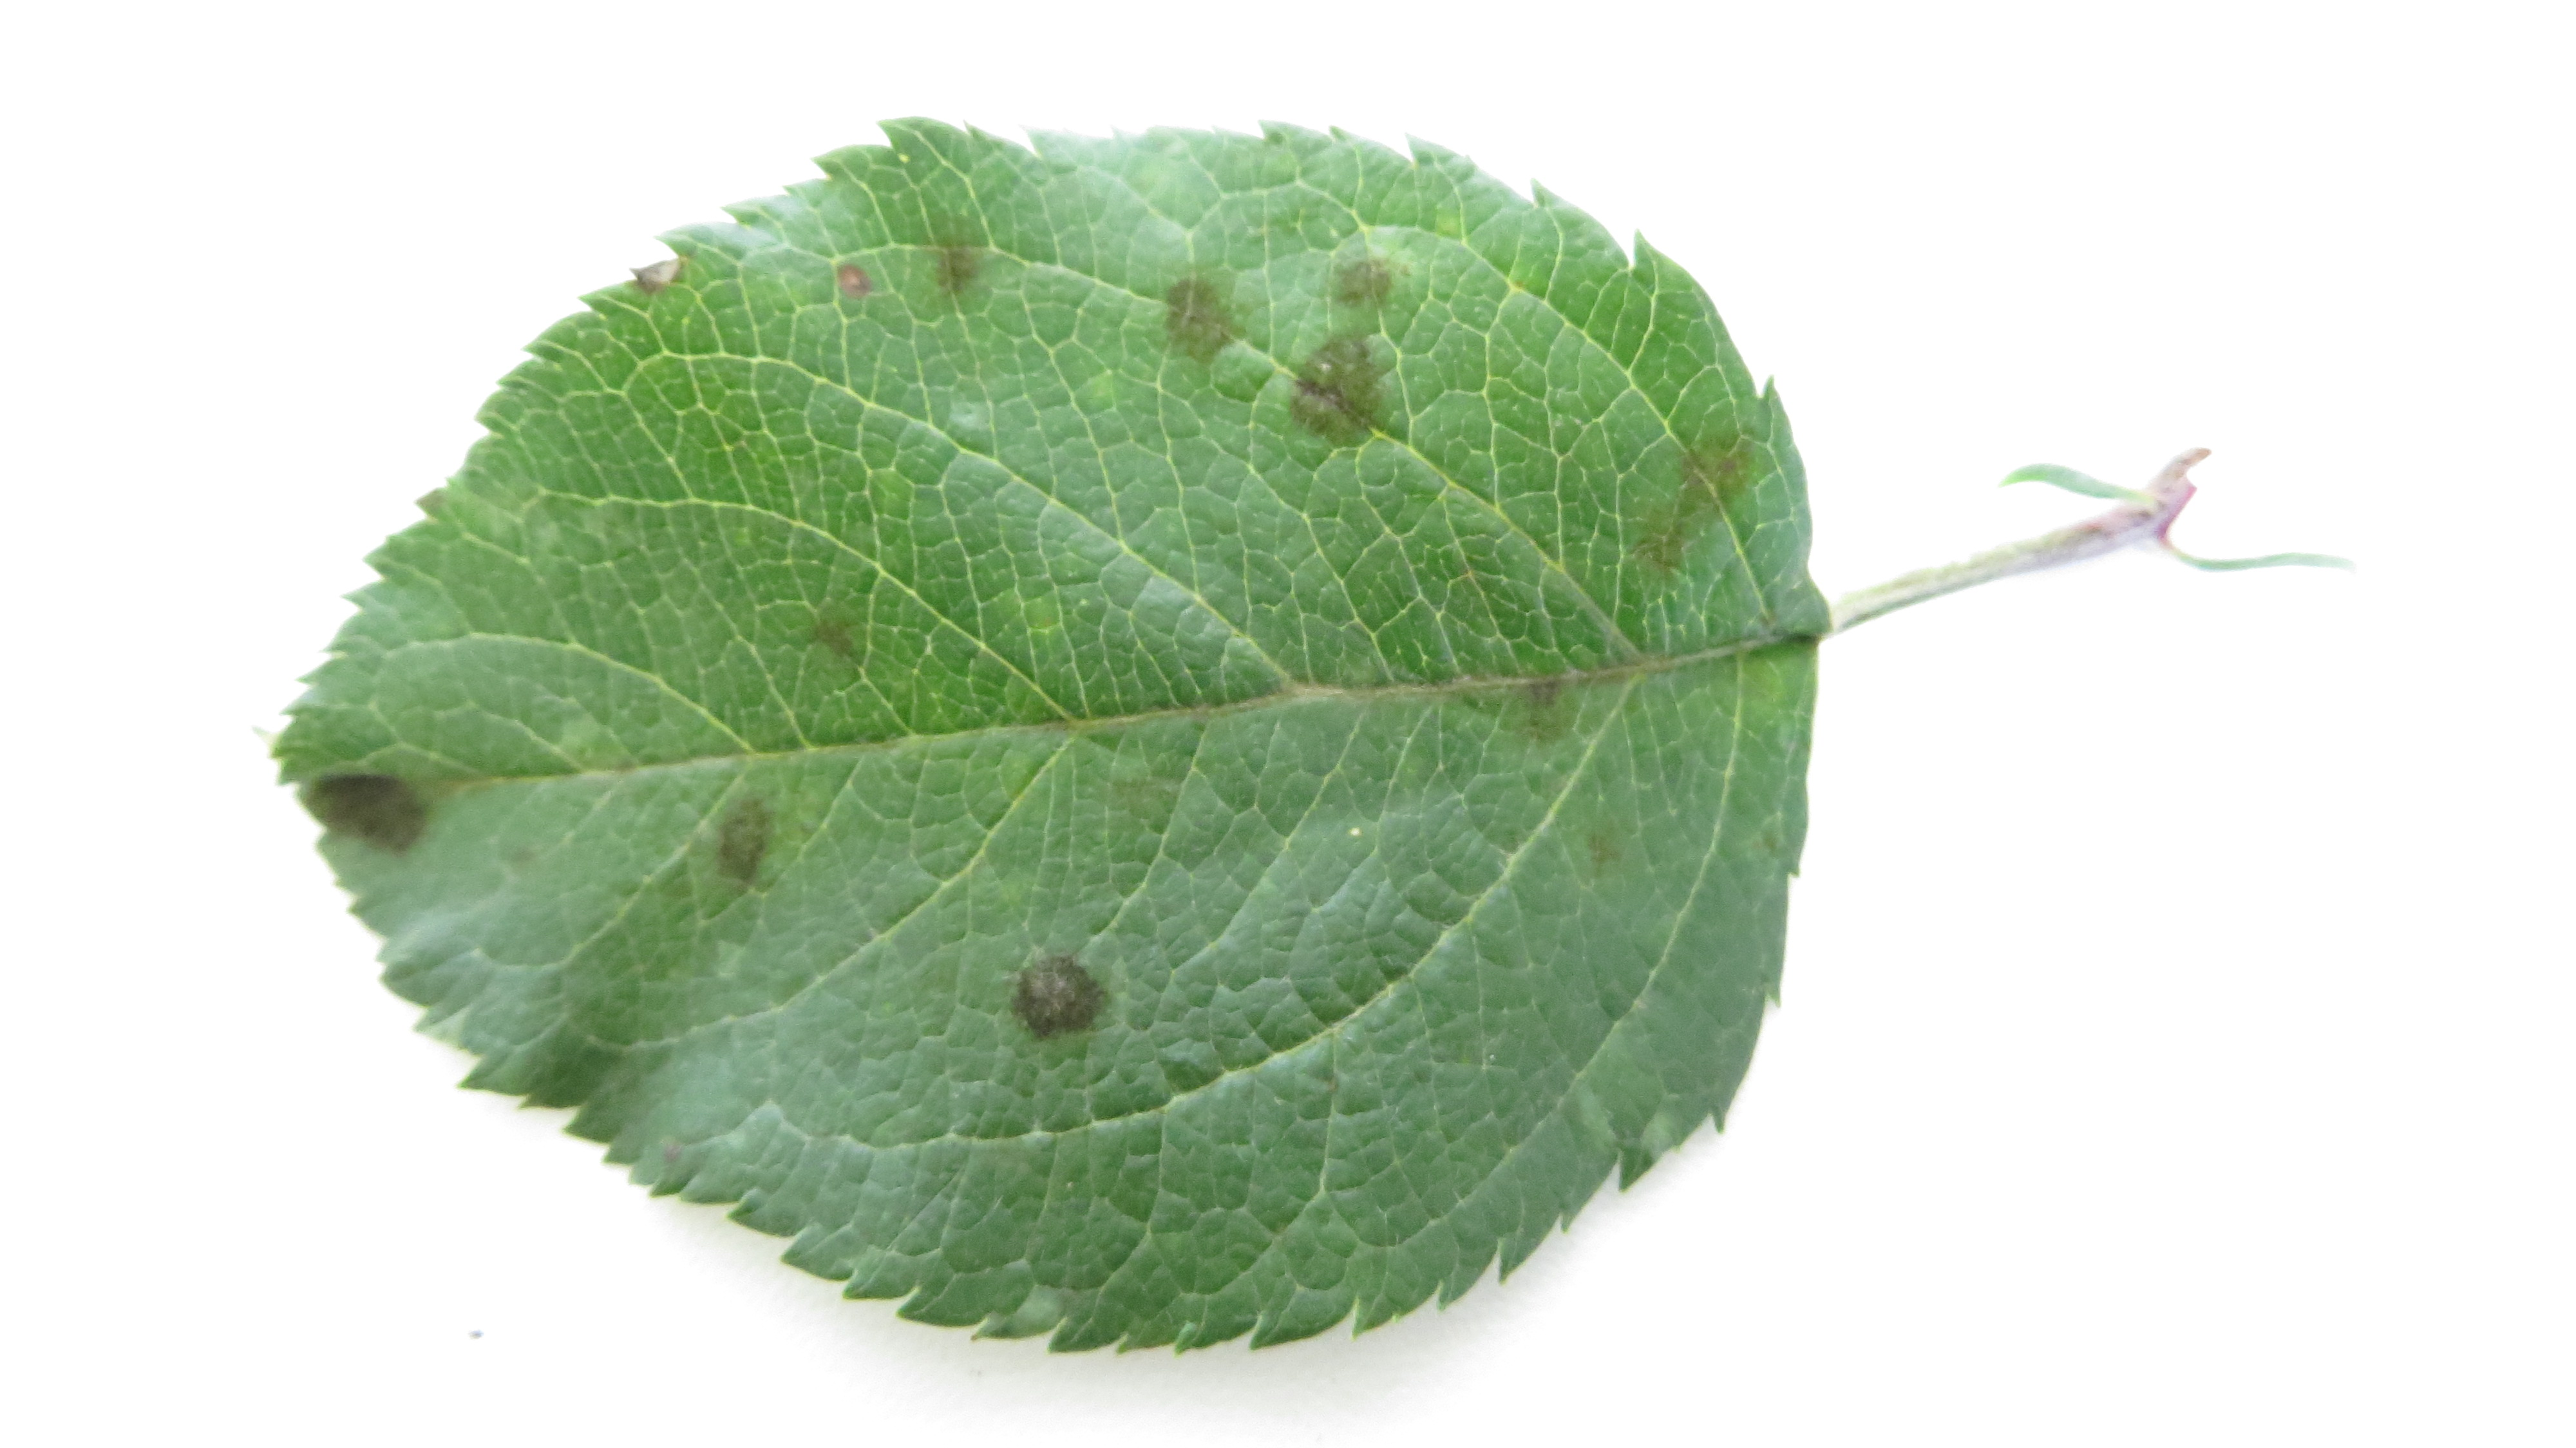sarna: (1629, 405, 1760, 609), (290, 756, 442, 876), (1272, 324, 1391, 469), (1003, 947, 1123, 1055), (699, 779, 789, 906), (1154, 258, 1249, 379), (901, 223, 1003, 313), (1499, 635, 1587, 733), (1548, 797, 1631, 892), (794, 591, 878, 682), (1316, 248, 1408, 322), (817, 248, 886, 308), (625, 235, 692, 294)
